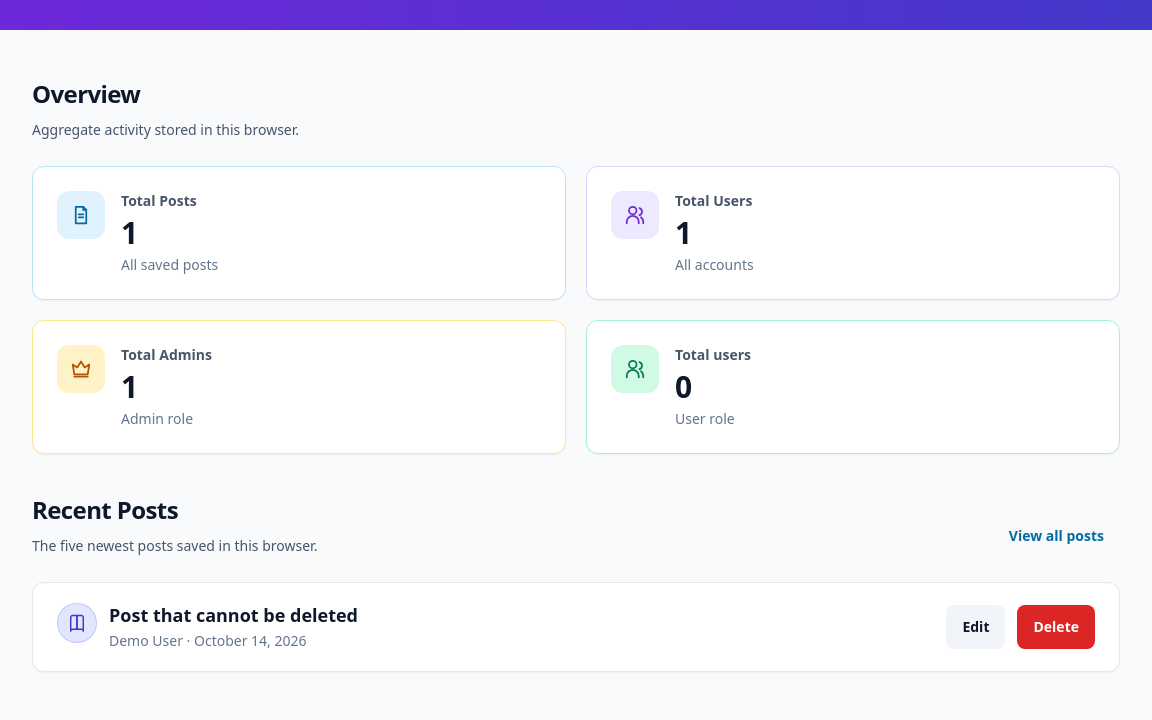
Test: AdminDashboard › reports a failed dashboard deletion and preserves the post
The width and height of the screenshot is (1152, 720).
(page scrolled)
Click the button with aria-label "Delete Post that cannot be deleted".
click(1056, 627)  # box [1018,605,1095,649]
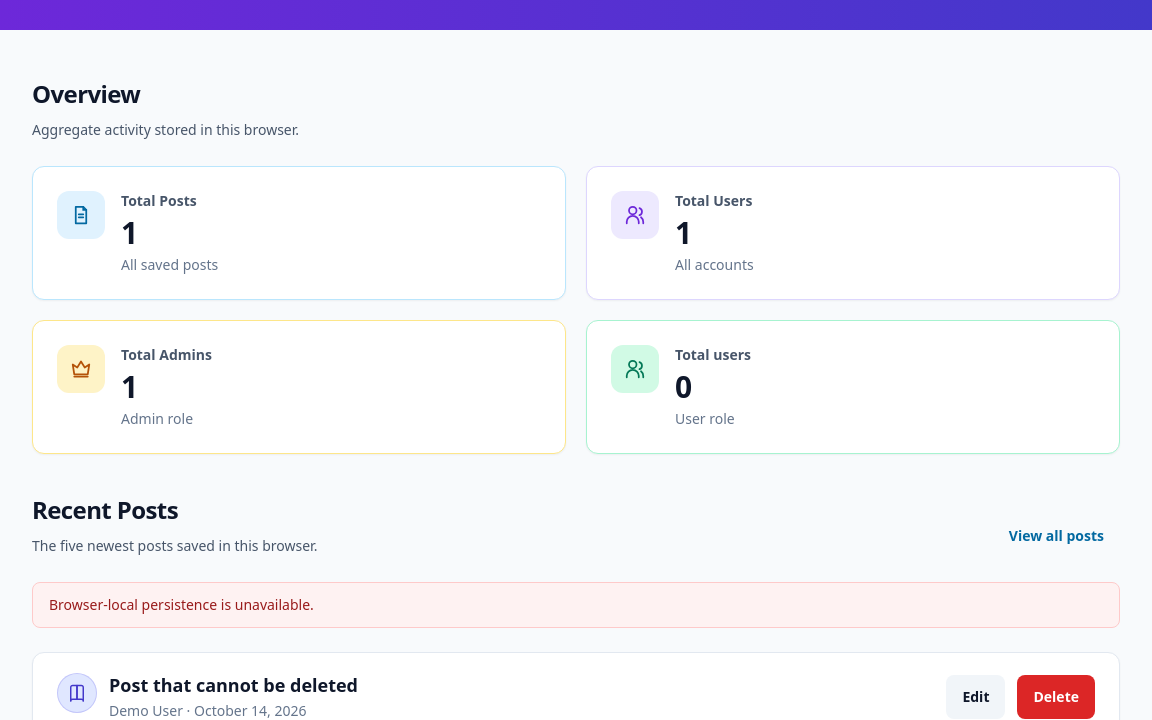
Check: the button with aria-label "Delete Post that cannot be deleted" is enabled, box [1018,675,1095,719]
Check: the message reads "Browser-local persistence is unavailable.", box [49,595,314,614]
